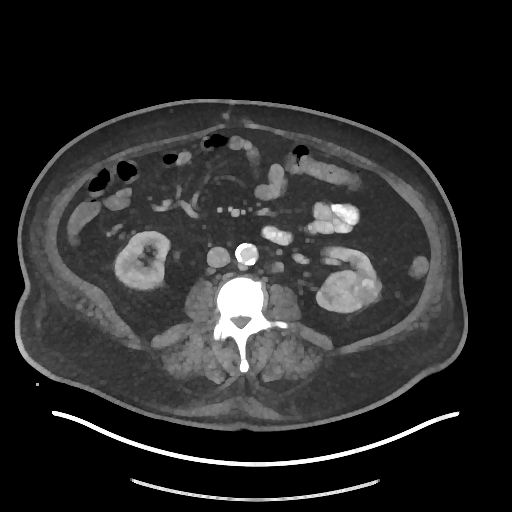Lesion: (349, 270, 384, 309)
